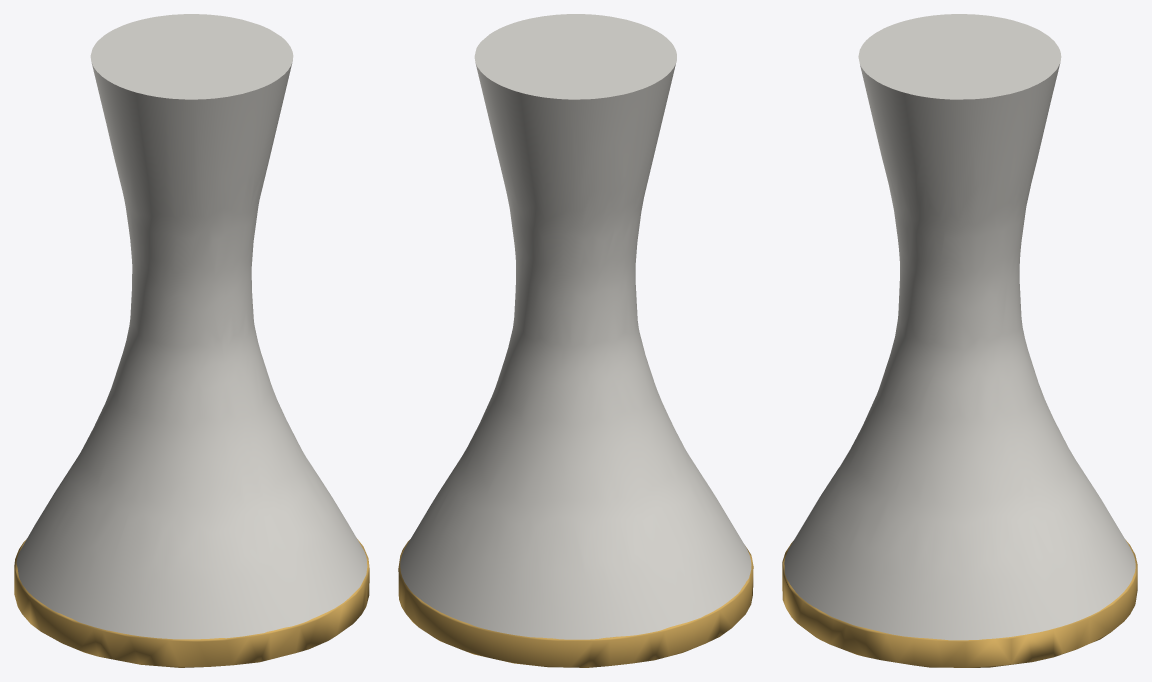
File: 01_pesec_bila.glb
The picture shows the model from 3 angles, left to right: view 1: azimuth 30°, elevation 25°; view 2: azimuth 150°, elevation 25°; view 3: azimuth 270°, elevation 25°; orthographic projection.
Parts seen in each view (by area): view 1: 01_pesec_telo_0, 01_pesec_podstavec; view 2: 01_pesec_telo_0, 01_pesec_podstavec; view 3: 01_pesec_telo_0, 01_pesec_podstavec.
Part boxes in pixels (x1,y1,x2,y2): 01_pesec_telo_0: (16, 14, 367, 639); 01_pesec_podstavec: (14, 539, 369, 667); 01_pesec_telo_0: (400, 14, 751, 639); 01_pesec_podstavec: (398, 540, 753, 667); 01_pesec_telo_0: (784, 14, 1135, 640); 01_pesec_podstavec: (782, 539, 1137, 667).
Size of the model in its own units: 0.042 by 0.07 by 0.0419.
